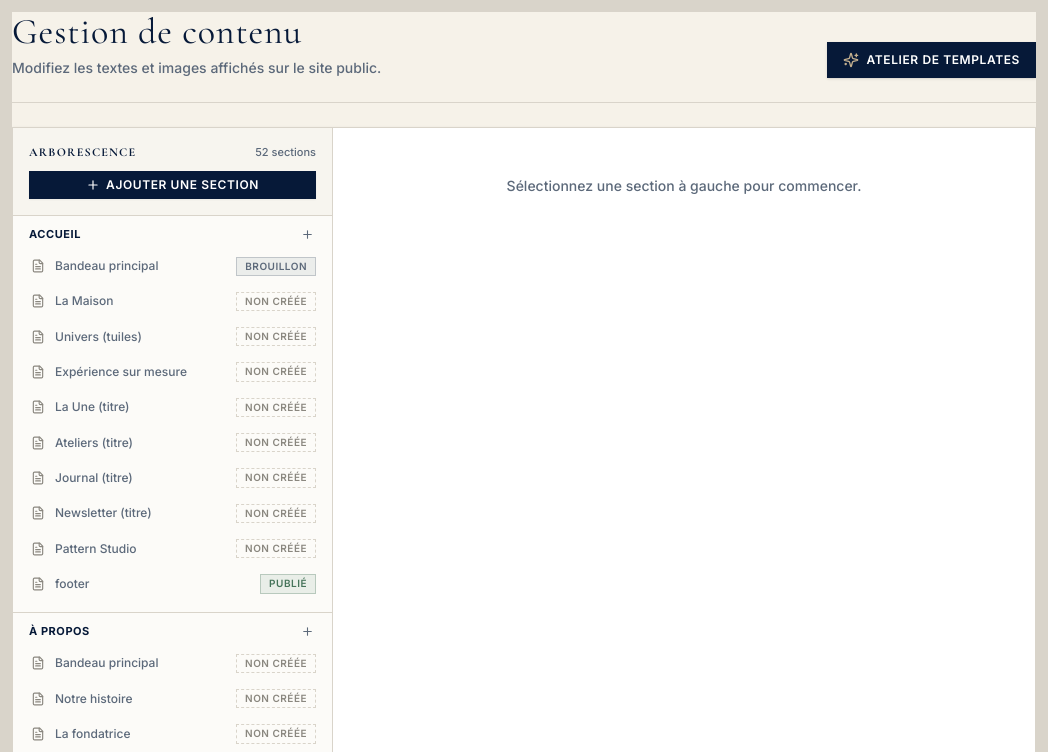
Test: AdminContentPage › loads the editor for the selected section
Click the button "Bandeau principal Brouillon": (107, 266) [13,248,332,284]
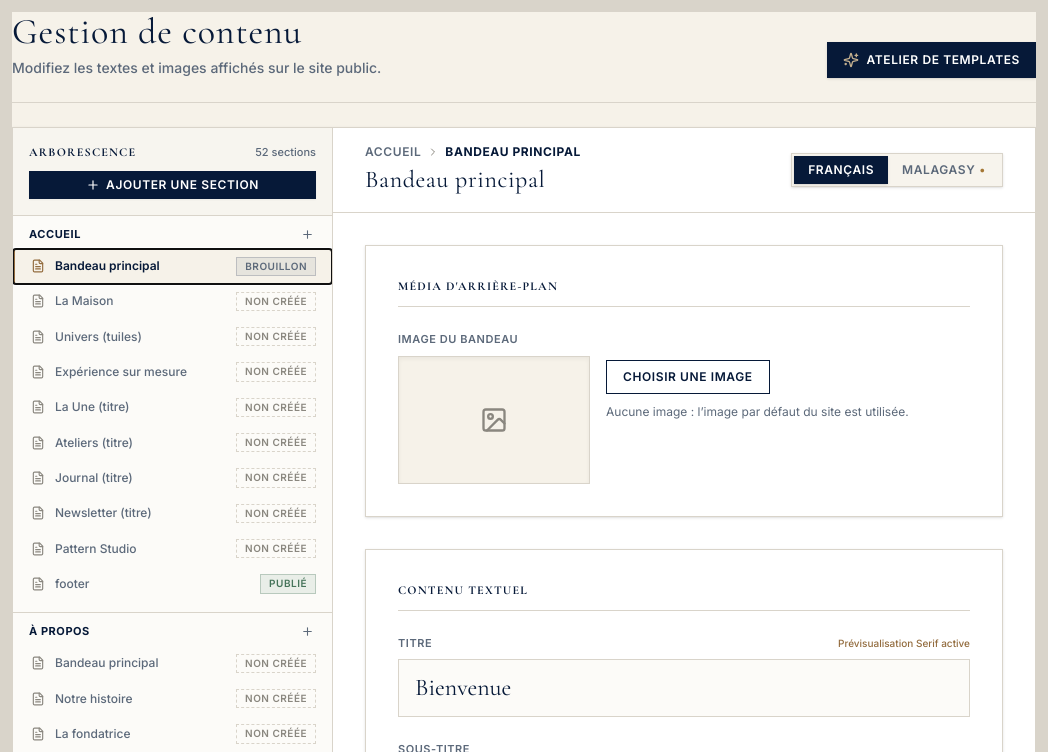
Now the field labelled "Titre" holds "Bienvenue", box [398,659,970,717]
